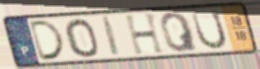D: (28, 19, 68, 63)
H: (123, 11, 168, 57)
I: (99, 15, 122, 58)
O: (63, 17, 101, 59)
Q: (158, 11, 200, 54)
U: (189, 8, 229, 52)
